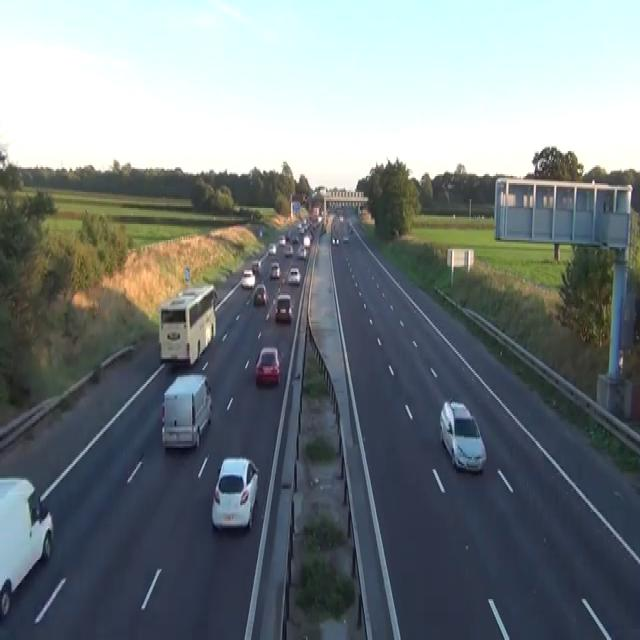Car: (0, 474, 54, 618), (211, 455, 258, 532), (439, 398, 487, 473), (255, 345, 280, 386), (274, 293, 292, 322), (253, 282, 268, 306), (240, 268, 255, 288), (287, 266, 300, 284), (270, 261, 280, 279), (0, 147, 8, 169), (297, 243, 306, 260), (252, 260, 261, 274), (284, 244, 293, 256), (303, 235, 310, 249), (331, 233, 339, 245), (268, 242, 276, 254), (297, 222, 304, 233), (291, 234, 299, 243), (278, 235, 285, 245), (328, 202, 335, 212), (342, 233, 349, 242), (348, 222, 353, 233), (321, 224, 326, 233), (317, 215, 323, 222), (339, 213, 343, 220), (259, 228, 262, 236)
Truck: (158, 283, 217, 366), (161, 372, 212, 449)
